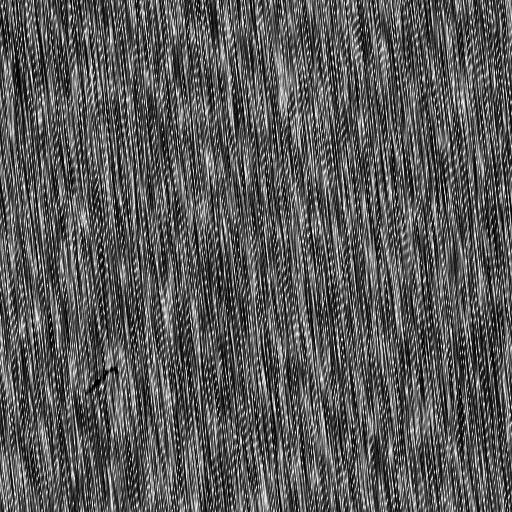DefectTypeC: (84, 365, 124, 394)
